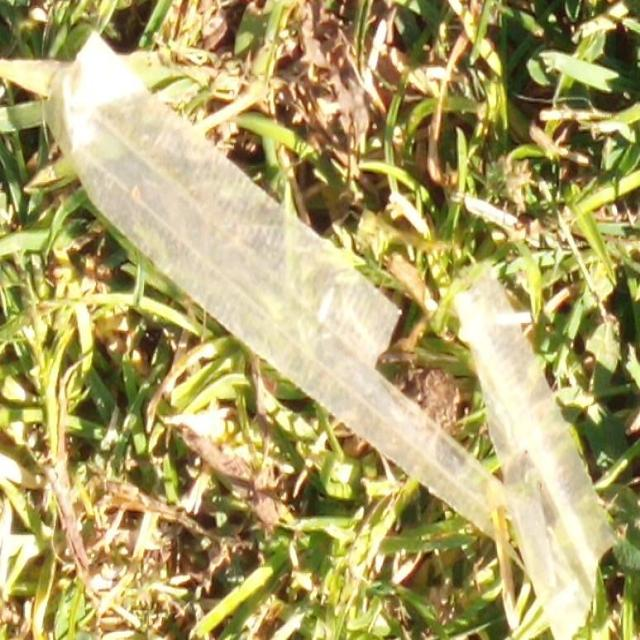litter: (38, 27, 617, 638)
